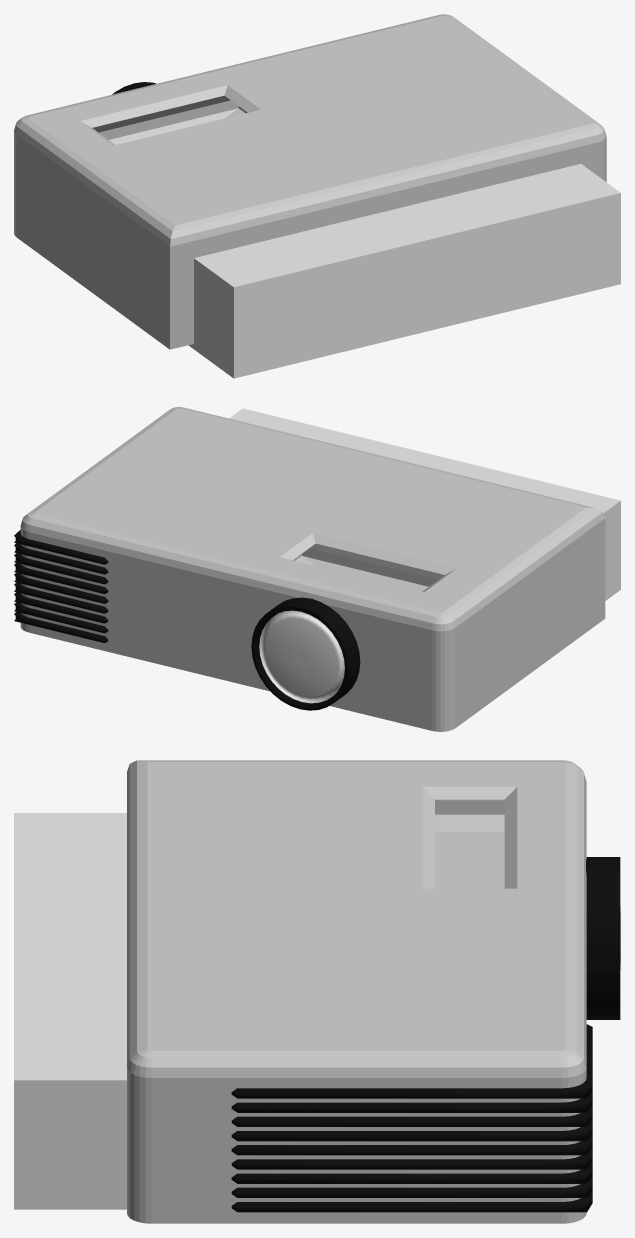
The model's file is rzutnik.fbx.
3 views of the same model, one above another, from view 1: azimuth 30°, elevation 25°; view 2: azimuth 150°, elevation 25°; view 3: azimuth 270°, elevation 25° (orthographic). The views are drawn at different scales.
Parts seen in each view (by area): view 1: Cube, Cube.002; view 2: Cube, Cube.002, Cube.001, Cylinder.001, Cylinder; view 3: Cube, Cube.002, Cube.001, Cylinder.
Part boxes in pixels (x1,y1,x2,y2): Cube: (14, 14, 606, 349); Cube.002: (188, 164, 620, 378); Cube: (20, 407, 605, 731); Cube.002: (229, 408, 620, 600); Cube.001: (14, 530, 108, 642); Cylinder.001: (259, 610, 344, 703); Cylinder: (251, 597, 360, 710); Cube: (127, 760, 586, 1223); Cube.002: (14, 813, 126, 1209); Cube.001: (231, 1024, 592, 1212); Cylinder: (586, 857, 620, 1019).
Bounding box in the file's own units: 35.84 × 9.32 × 29.8.
